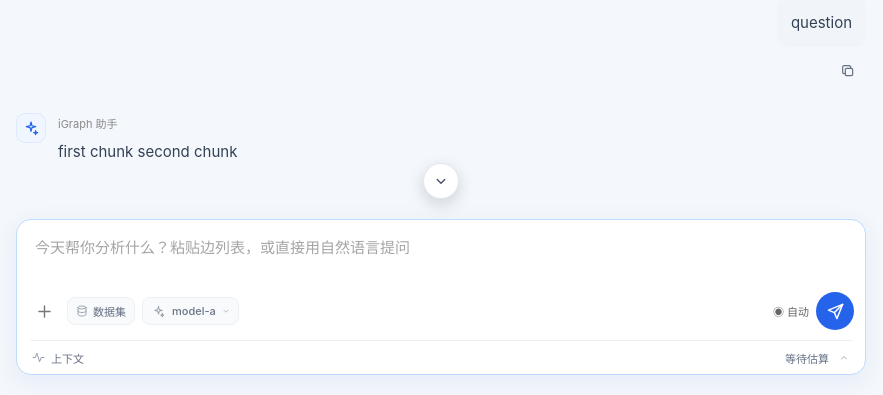
ConversationInputArea › shows a jump-to-latest button without interrupting a user who scrolled up
(page scrolled)
Click the button named "滚动到最新消息": (441, 181) x1=423 y1=163 x2=459 y2=199
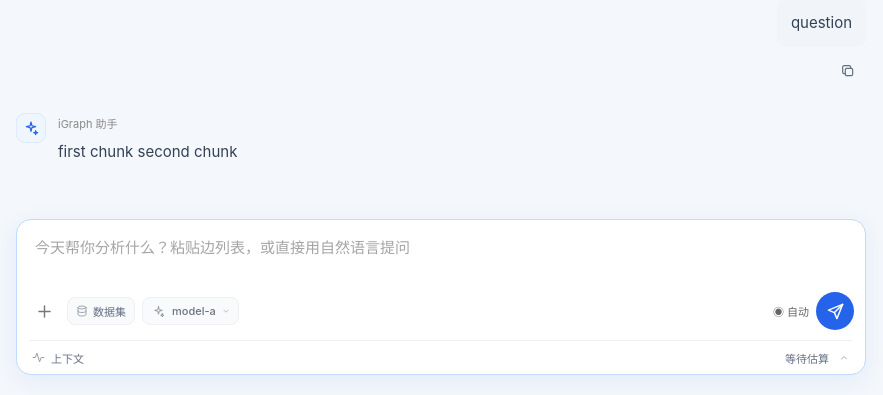
Now the button "滚动到最新消息" is gone
